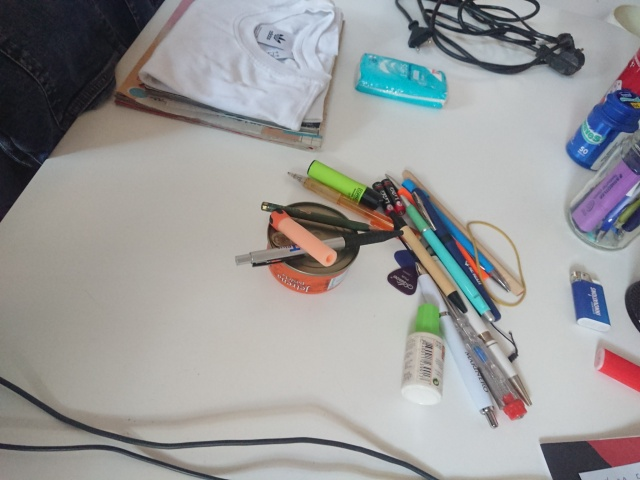Gavrilovic Pork Liver Pate 100g: (262, 199, 362, 296)
